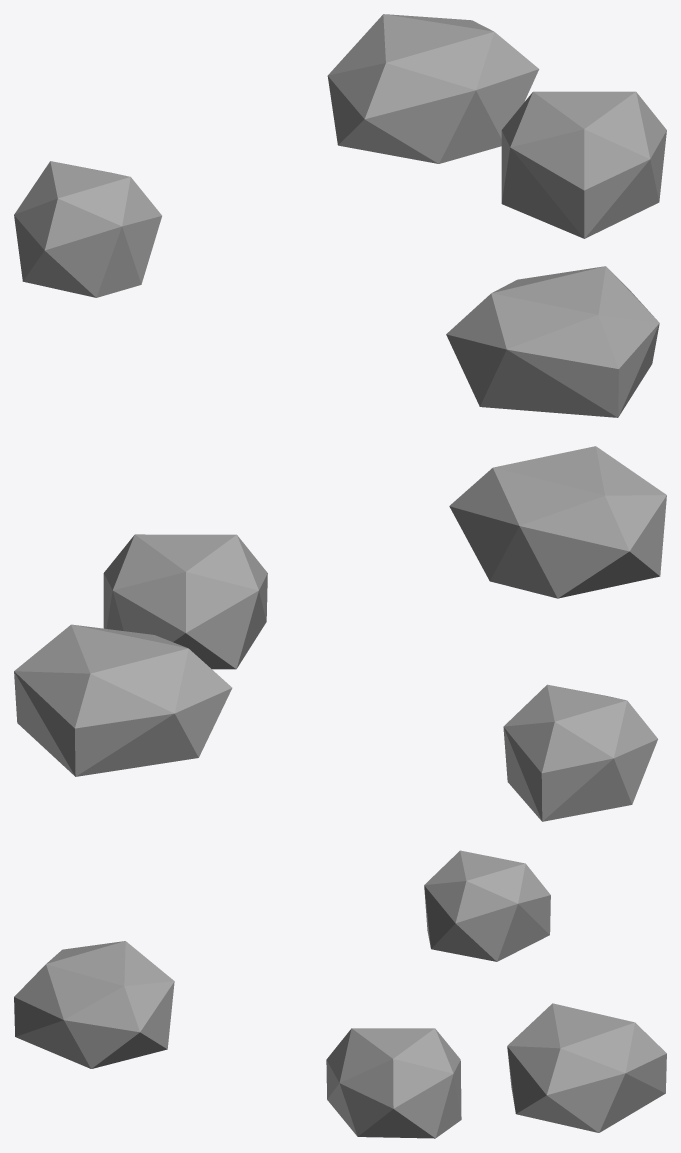
Rendered from SM_Stone_02.fbx.
The picture shows the model from 3 angles, top to bottom: view 1: azimuth 30°, elevation 25°; view 2: azimuth 150°, elevation 25°; view 3: azimuth 270°, elevation 25°; orthographic projection. The views are drawn at different scales.
Parts seen in each view (by area): view 1: SM_Stone_02; view 2: SM_Stone_02; view 3: SM_Stone_02.
Boxes of the visible parts, x1,y1,x2,y2 form: SM_Stone_02: [14, 14, 666, 417]; SM_Stone_02: [14, 446, 666, 821]; SM_Stone_02: [14, 850, 666, 1138].
Size of the model in its own units: 38.3 by 5.9 by 45.09.
